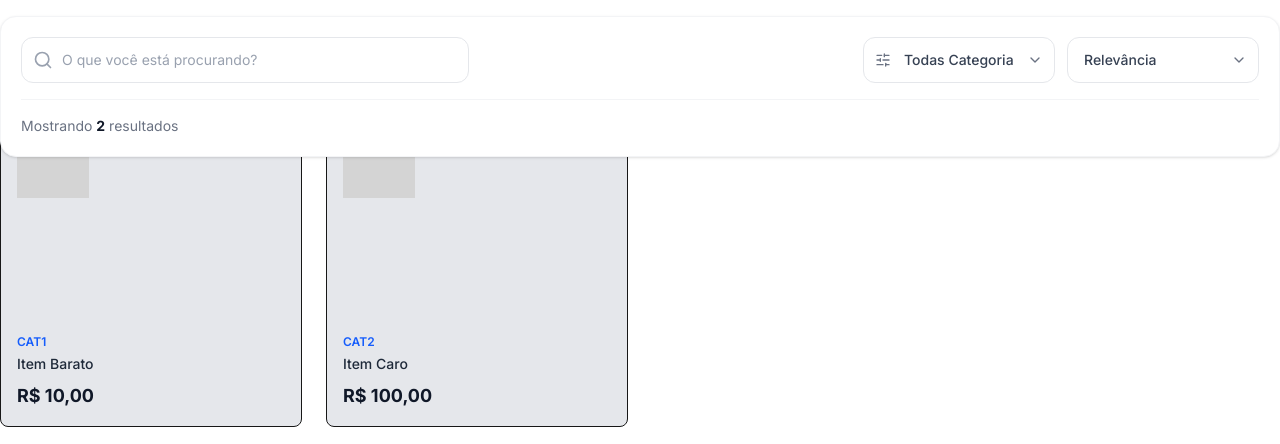
Test: ProductCatalog Component › deve atualizar a lista ao mudar o filtro de categoria
The image size is (1280, 444).
Select "cat1" in the 1st dropdown at (959, 60), box [863,37,1055,83]
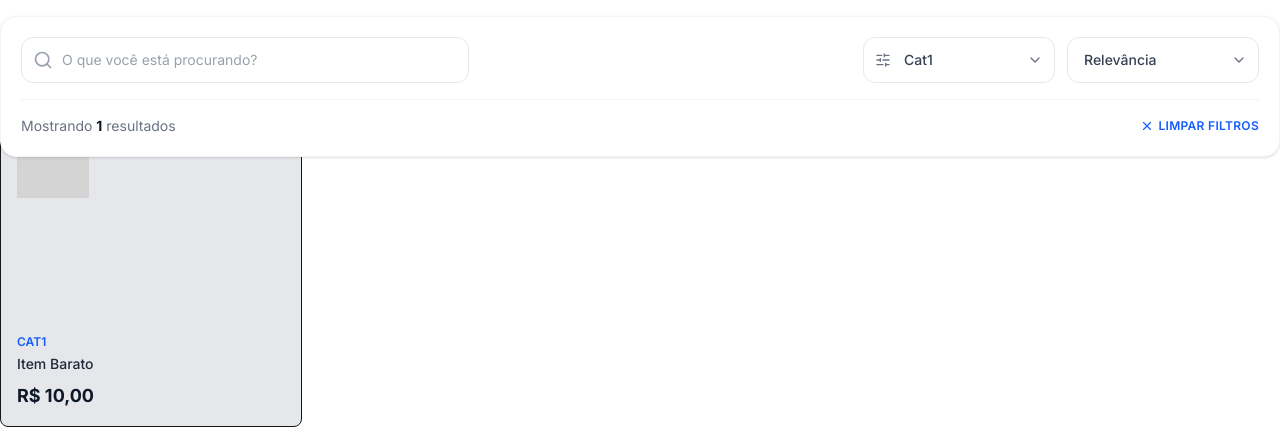
Expected: the heading "Item Barato" is shown, [17,355,94,372]
Expected: the link "Item Caro" is gone
Expected: the button "Limpar filtros" is shown, [1140,118,1259,134]
